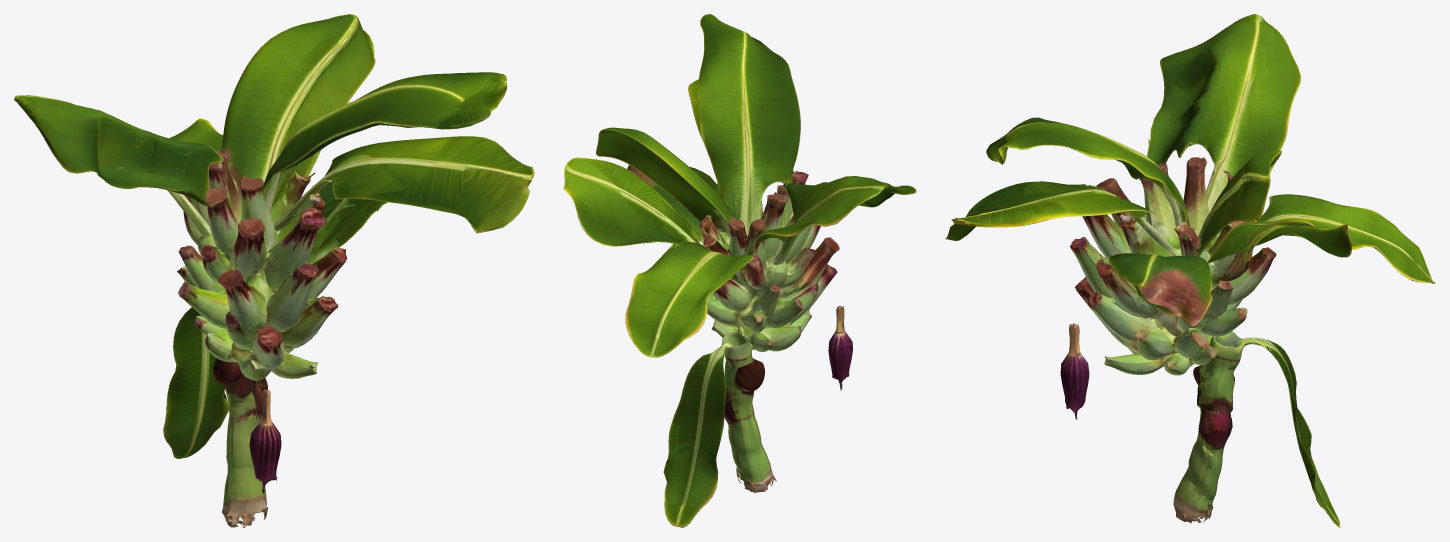
Rendered from raw_meshy_model.glb.
The picture shows the model from 3 angles, left to right: view 1: azimuth 30°, elevation 25°; view 2: azimuth 150°, elevation 25°; view 3: azimuth 270°, elevation 25°; orthographic projection. The views are drawn at different scales.
Size of the model in its own units: 1.58 by 1.9 by 1.88.
Materials: 1 (1 with a texture image).
